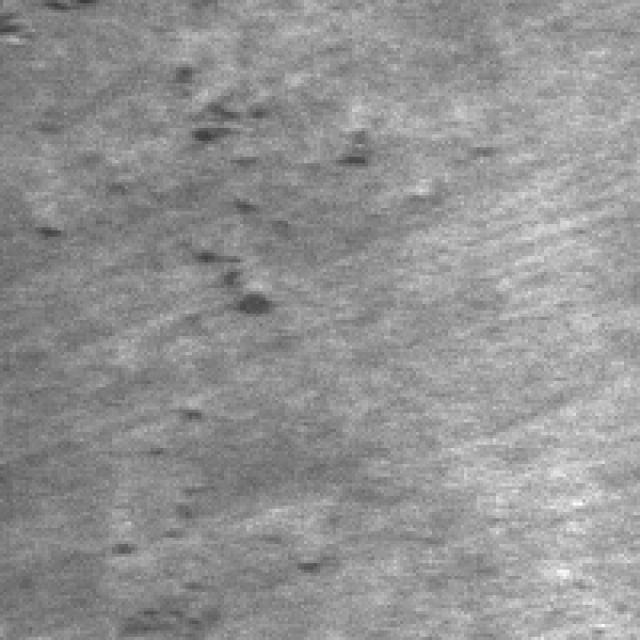rolled-in_scale: (164, 77, 406, 310)
